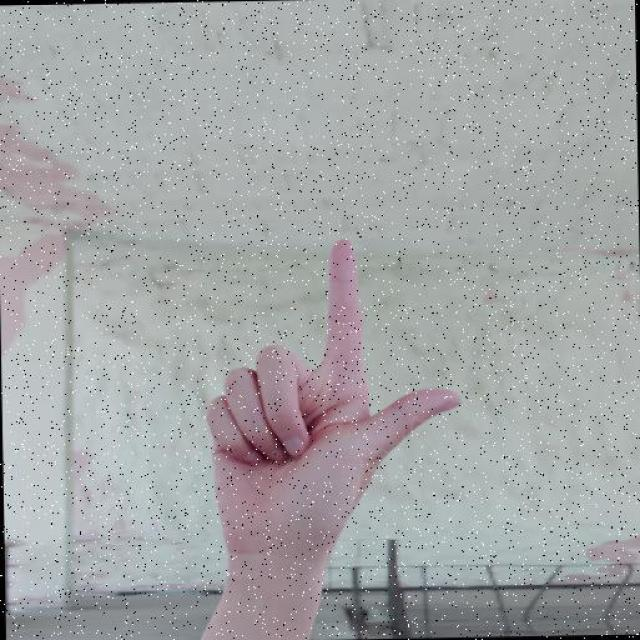L: (199, 232, 466, 556)
